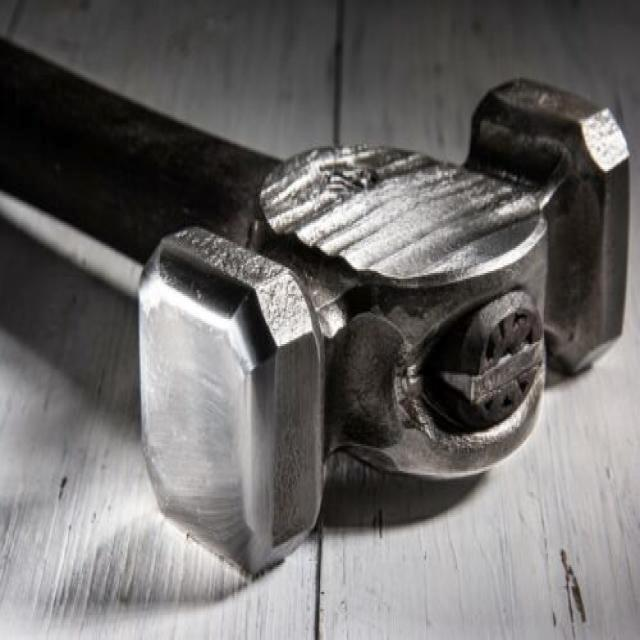hammer: (0, 19, 632, 584)
